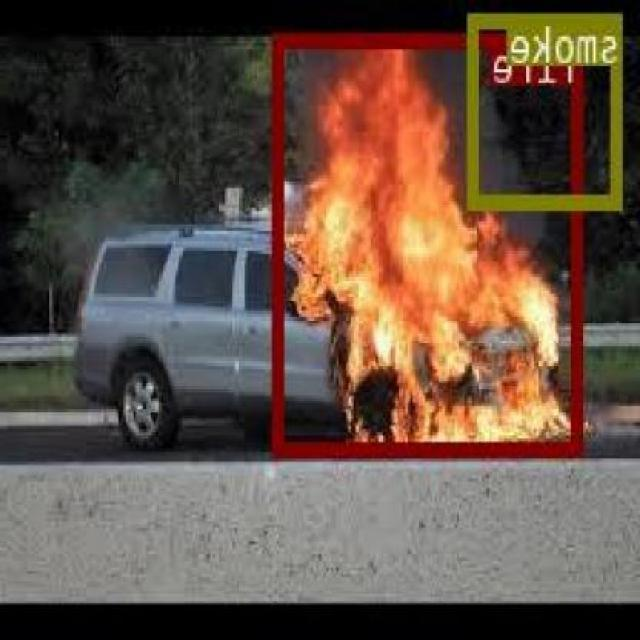Fire: (276, 60, 548, 458)
Smoke: (18, 158, 176, 340)
